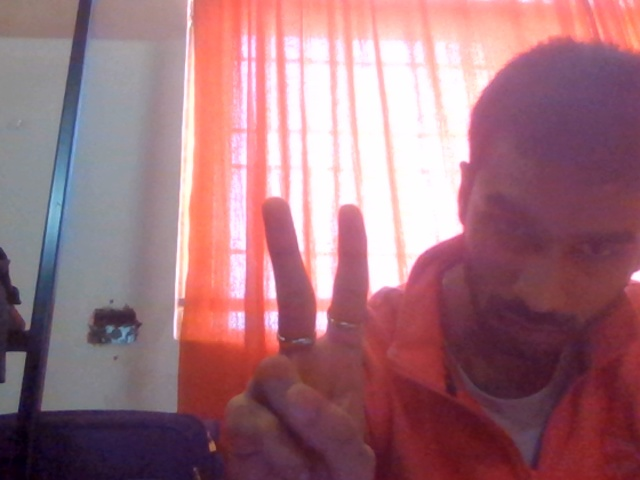V: (180, 162, 404, 480)
